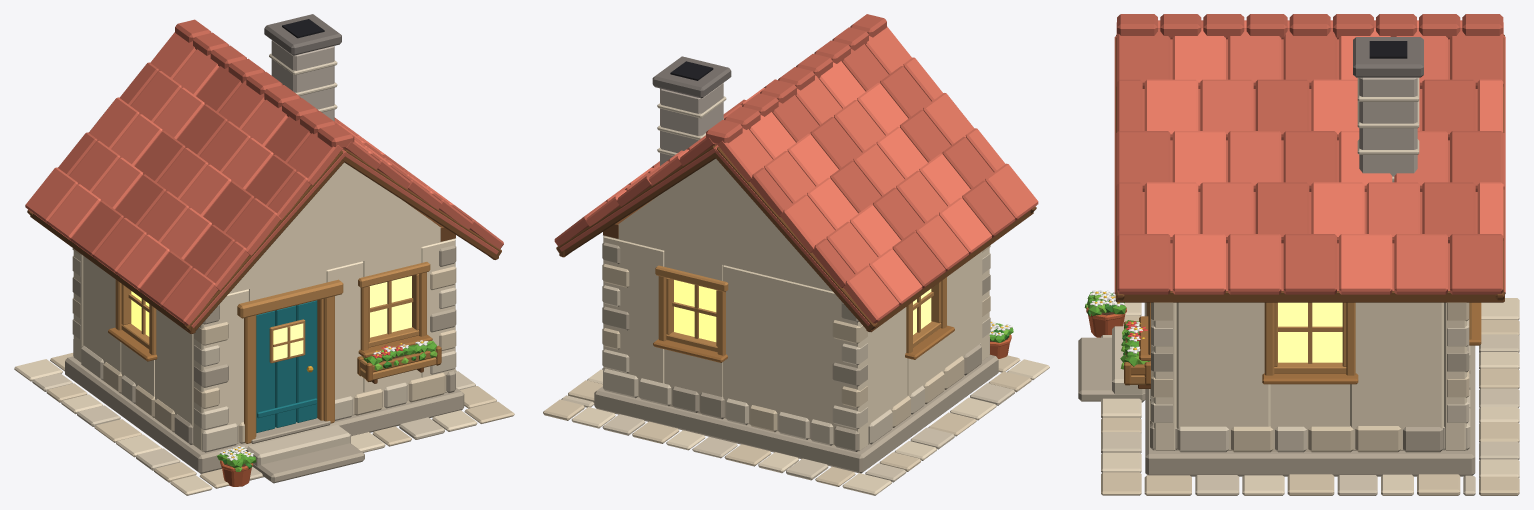
The model's file is cottage_exterior.glb.
3 renders of one model, left to right at view 1: azimuth 30°, elevation 25°; view 2: azimuth 150°, elevation 25°; view 3: azimuth 270°, elevation 25°, orthographic. The views are drawn at different scales.
Parts seen in each view (by area): view 1: cottage_exterior_roof, cottage_exterior, part_door_leaf; view 2: cottage_exterior_roof, cottage_exterior; view 3: cottage_exterior_roof, cottage_exterior.
Boxes of the visible parts, x1,y1,x2,y2 form: cottage_exterior_roof: (25, 14, 503, 333); cottage_exterior: (14, 239, 514, 495); part_door_leaf: (256, 300, 317, 432); cottage_exterior_roof: (554, 14, 1038, 332); cottage_exterior: (543, 236, 1049, 495); cottage_exterior_roof: (1114, 14, 1505, 302); cottage_exterior: (1078, 290, 1519, 495).
Size of the model in its own units: 4.41 by 4.16 by 4.22.
